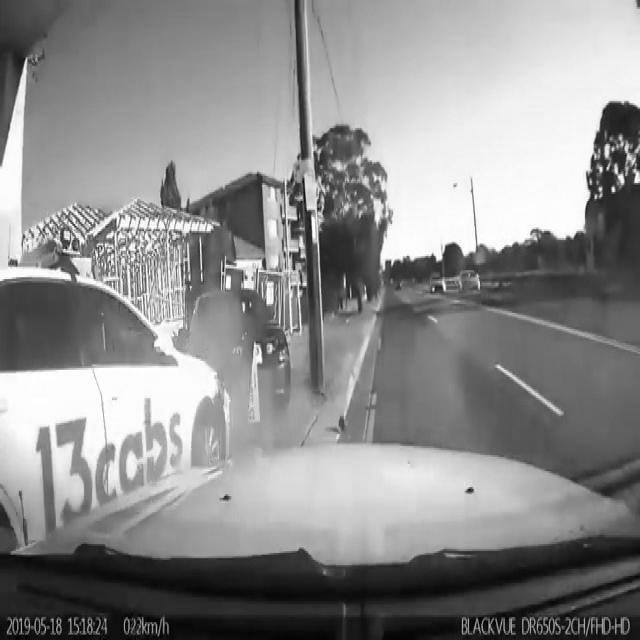vehicle: (0, 227, 274, 572), (166, 275, 306, 447)
